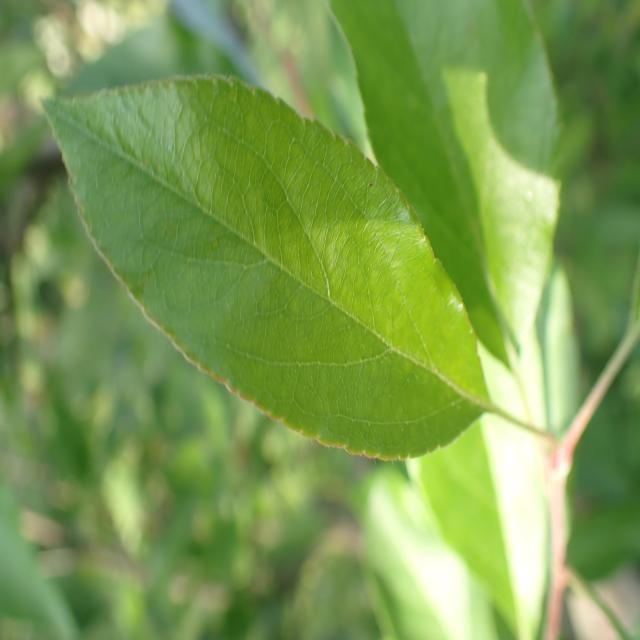healthy: (38, 73, 490, 462), (326, 1, 564, 374)
